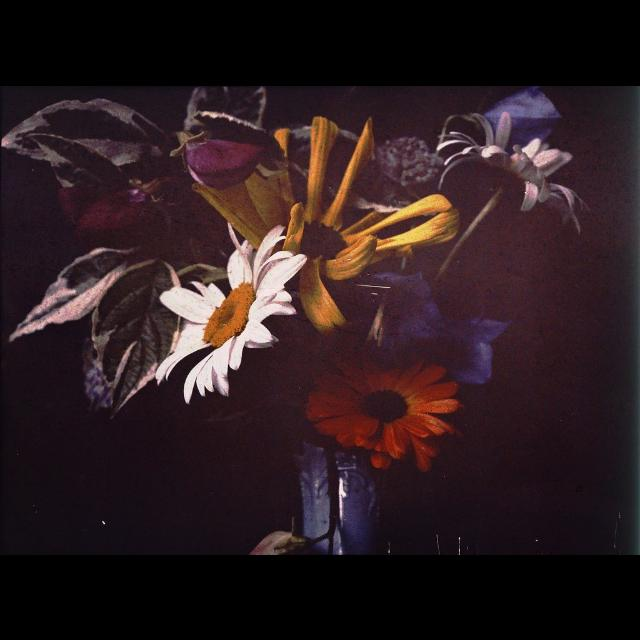Flower: (196, 115, 464, 331), (154, 218, 308, 404), (306, 348, 464, 472), (436, 110, 584, 228), (372, 268, 516, 384), (182, 132, 262, 188)
